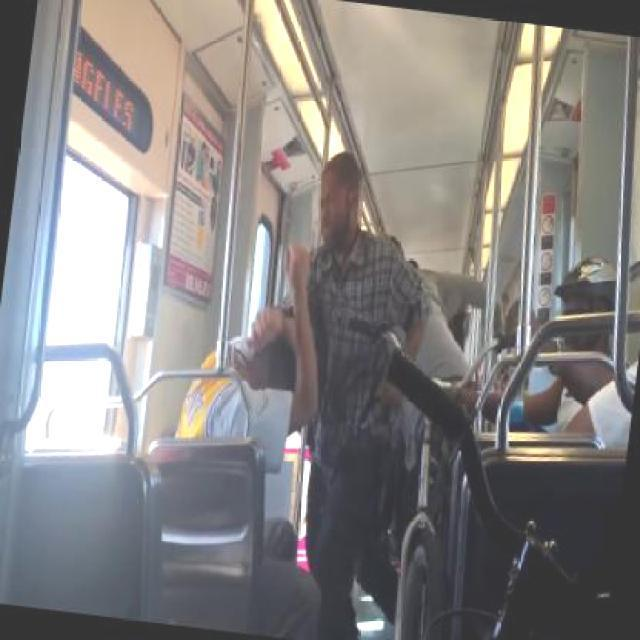fight: (162, 136, 446, 581)
